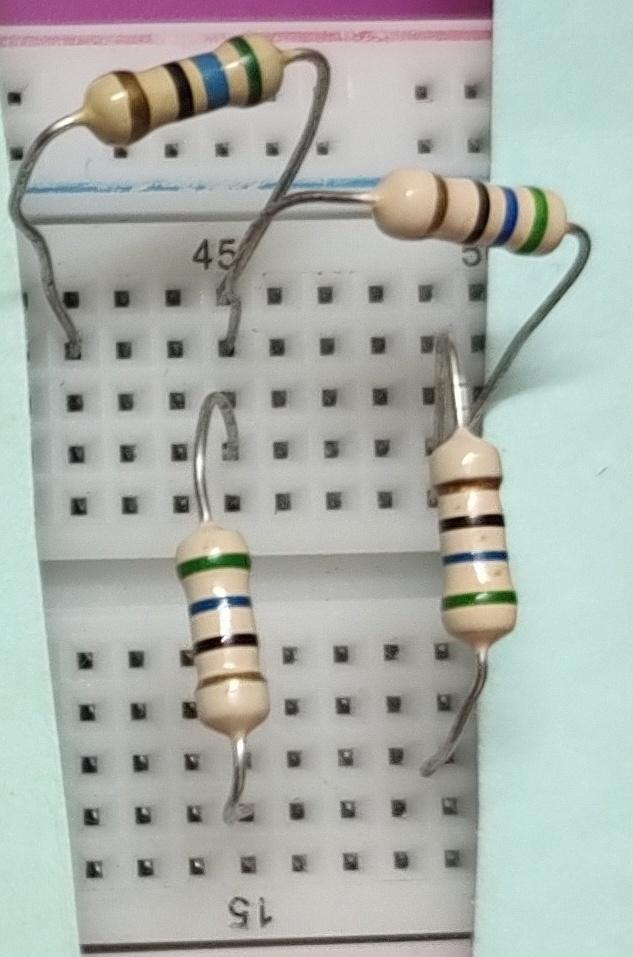resistor: (157, 519, 298, 752), (73, 23, 306, 147), (421, 425, 537, 652), (367, 159, 587, 261)
